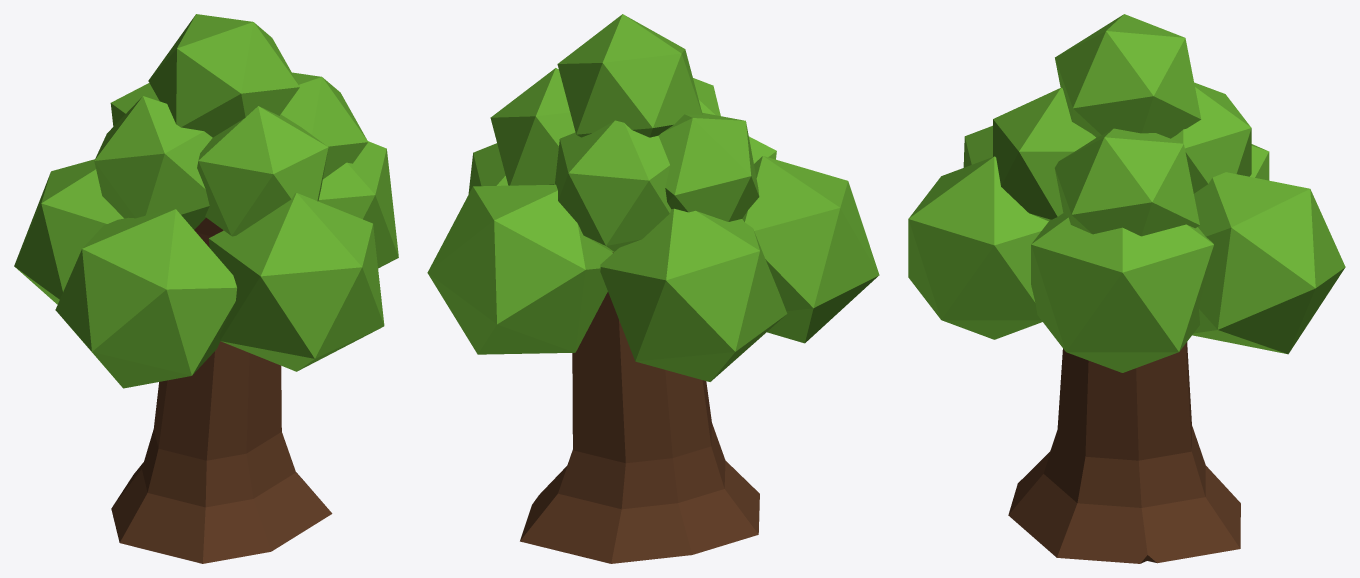
Rendered from Tree3.glb.
The picture shows the model from 3 angles, left to right: view 1: azimuth 30°, elevation 25°; view 2: azimuth 150°, elevation 25°; view 3: azimuth 270°, elevation 25°; orthographic projection. The views are drawn at different scales.
Visible parts, largest first — view 1: Tree8; view 2: Tree8; view 3: Tree8.
Part boxes in pixels (x1,y1,x2,y2): Tree8: [14, 14, 398, 563]; Tree8: [427, 14, 879, 563]; Tree8: [908, 14, 1345, 563].
Bounding box in the file's own units: 5.63 × 7.49 × 5.94.
